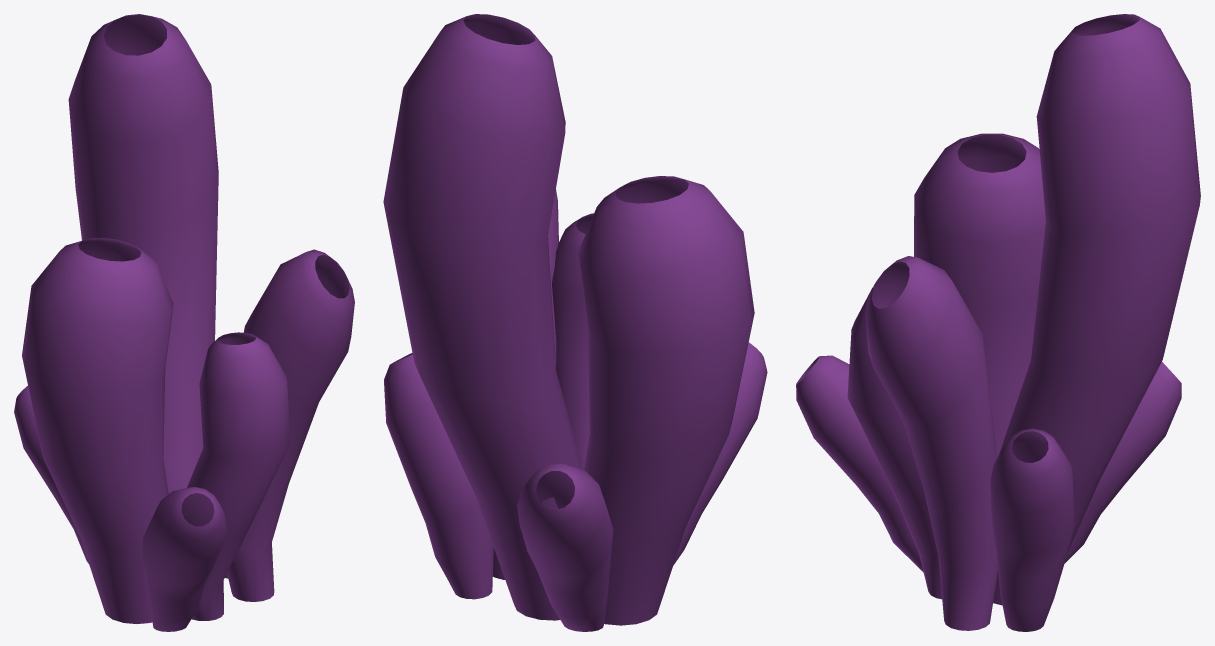
Rendered from coral_purple.fbx.
3 views of the same model, side by side, from view 1: azimuth 30°, elevation 25°; view 2: azimuth 150°, elevation 25°; view 3: azimuth 270°, elevation 25° (orthographic). The views are drawn at different scales.
Parts seen in each view (by area): view 1: purple_coral, purple_coral2, purple_coral4, purple_coral3, purple_coral6, purple_coral7; view 2: purple_coral2, purple_coral, purple_coral5, purple_coral7, purple_coral3, purple_coral6, purple_coral4; view 3: purple_coral2, purple_coral4, purple_coral, purple_coral5, purple_coral3, purple_coral6, purple_coral7.
Boxes of the visible parts, <box> form: purple_coral: <box>22,237,173,623</box>; purple_coral2: <box>68,14,218,493</box>; purple_coral4: <box>227,249,354,601</box>; purple_coral3: <box>187,332,290,620</box>; purple_coral6: <box>142,487,227,631</box>; purple_coral7: <box>14,386,88,563</box>; purple_coral2: <box>383,14,581,620</box>; purple_coral: <box>578,176,754,625</box>; purple_coral5: <box>384,353,493,599</box>; purple_coral7: <box>517,464,613,631</box>; purple_coral3: <box>552,213,593,470</box>; purple_coral6: <box>673,342,767,565</box>; purple_coral4: <box>493,189,558,579</box>; purple_coral2: <box>993,14,1200,605</box>; purple_coral4: <box>865,256,997,630</box>; purple_coral: <box>914,133,1045,458</box>; purple_coral5: <box>990,428,1074,631</box>; purple_coral3: <box>847,287,941,599</box>; purple_coral6: <box>796,355,923,572</box>; purple_coral7: <box>1064,362,1181,563</box>.
Bounding box in the file's own units: 210 × 374 × 238.
